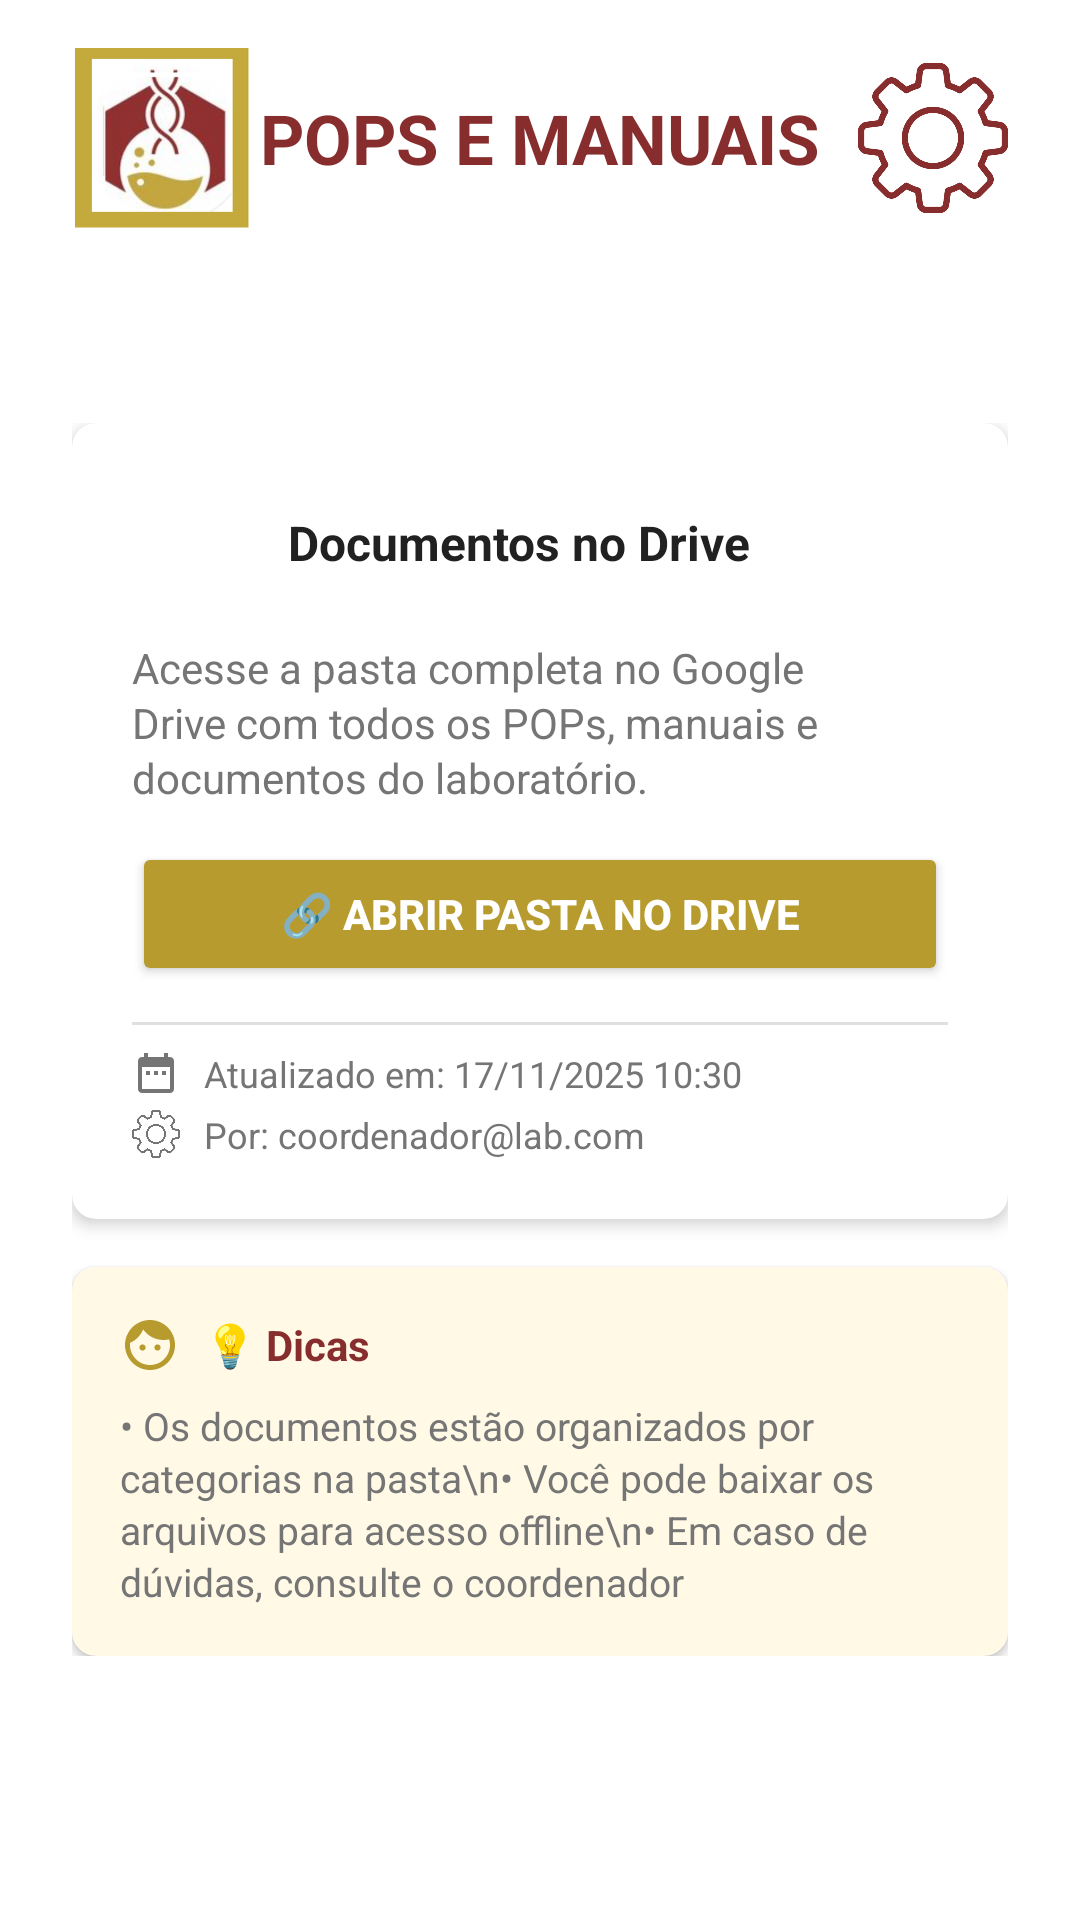

Point at icon controls on the screen. Image size 1080px x 1920px, points as [x,y].
calendar: [156,1073]
config: [156,1134]
Configurações: [933,138]
